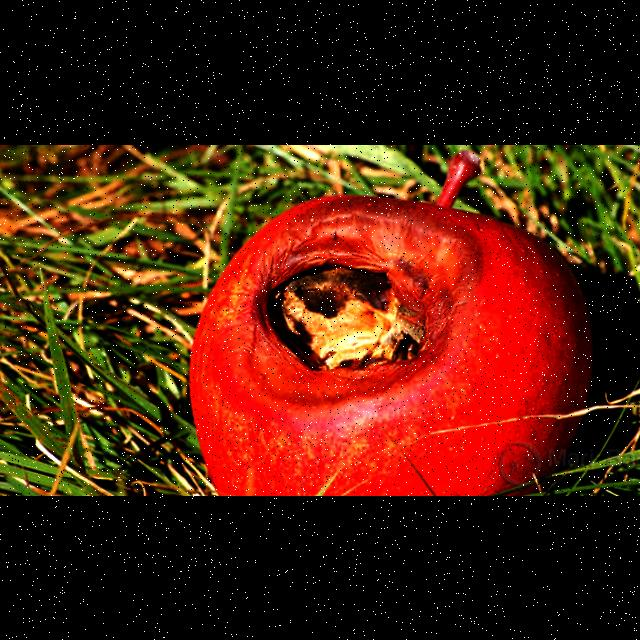Apel Tidak Segar: (172, 182, 602, 496)
